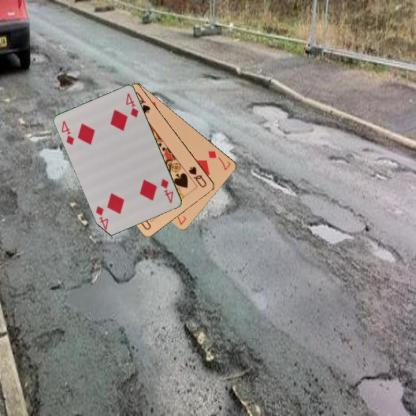4d: (158, 176, 176, 205), (59, 118, 76, 147)
7d: (206, 148, 233, 172)
Qs: (186, 164, 208, 189)
